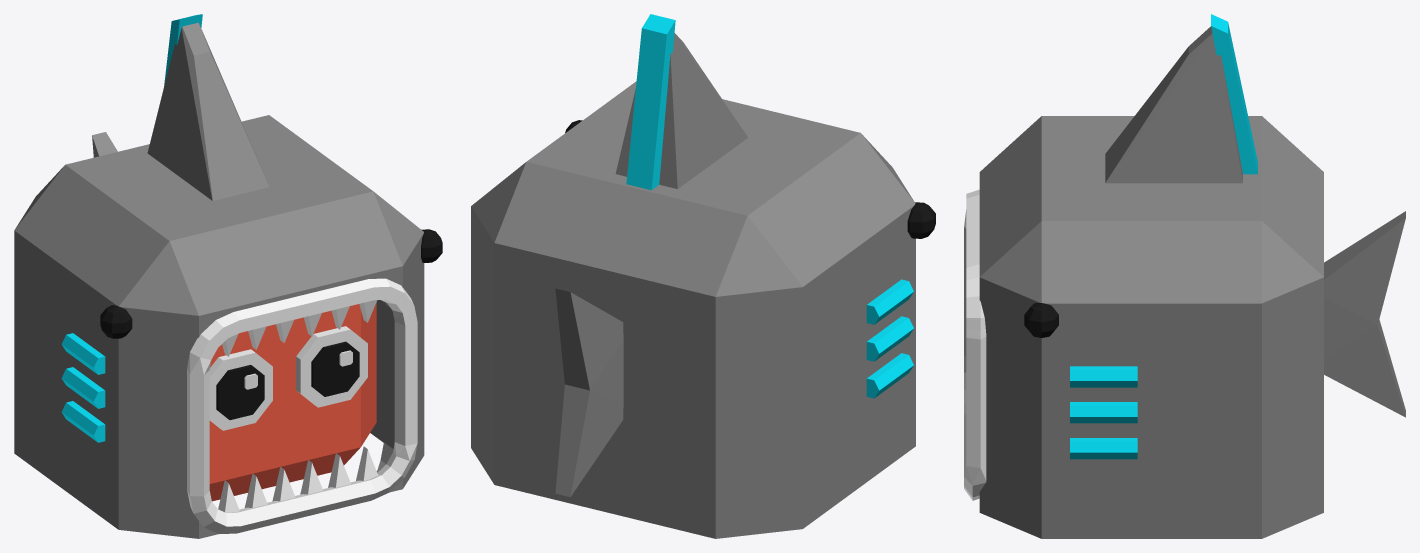
The model's file is Chompy.fbx.
3 views of the same model, side by side, from view 1: azimuth 30°, elevation 25°; view 2: azimuth 150°, elevation 25°; view 3: azimuth 270°, elevation 25° (orthographic). The views are drawn at different scales.
Visible parts, largest first — view 1: Chompy_Hood, Chompy_Teeth, Chompy, Chompy_Fins, Chompy_Eyes, Chompy_Pupils, Chompy_Glow, Chompy_SharkEyes; view 2: Chompy_Hood, Chompy_Fins, Chompy_Glow, Chompy_SharkEyes; view 3: Chompy_Hood, Chompy_Fins, Chompy_Glow, Chompy_Teeth, Chompy_SharkEyes.
Boxes of the visible parts, bbox=[...] form: Chompy_Hood: bbox=[14, 115, 424, 538]; Chompy_Teeth: bbox=[187, 278, 417, 533]; Chompy: bbox=[209, 302, 376, 501]; Chompy_Fins: bbox=[92, 22, 269, 200]; Chompy_Eyes: bbox=[209, 326, 367, 430]; Chompy_Pupils: bbox=[216, 341, 359, 419]; Chompy_Glow: bbox=[61, 14, 202, 442]; Chompy_SharkEyes: bbox=[100, 229, 442, 338]; Chompy_Hood: bbox=[471, 81, 915, 538]; Chompy_Fins: bbox=[555, 33, 747, 497]; Chompy_Glow: bbox=[626, 14, 913, 398]; Chompy_SharkEyes: bbox=[565, 120, 935, 238]; Chompy_Hood: bbox=[979, 116, 1323, 538]; Chompy_Fins: bbox=[1105, 26, 1405, 417]; Chompy_Glow: bbox=[1070, 14, 1257, 459]; Chompy_Teeth: bbox=[964, 189, 986, 500]; Chompy_SharkEyes: bbox=[1024, 303, 1058, 337].
Bounding box in the file's own units: 2.93 × 3.48 × 3.13.
